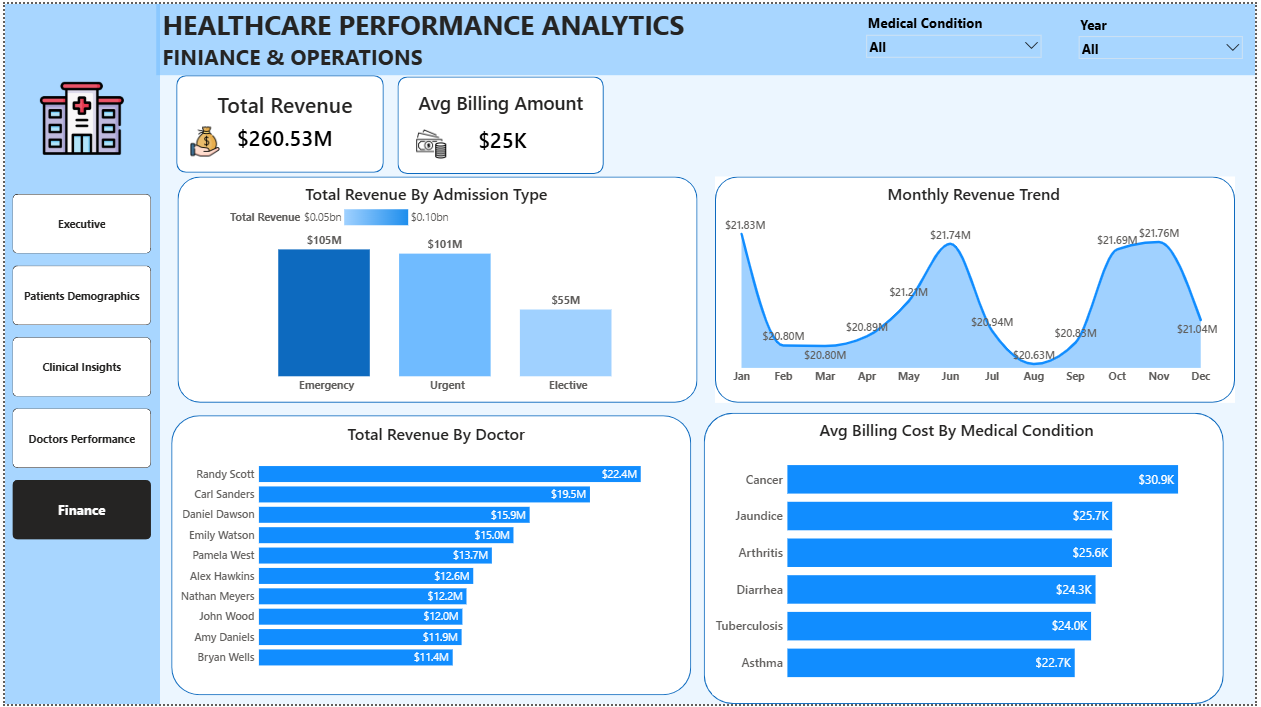

What the dashboard file says about the page in this screenshot:
{"tool":"powerbi","page":{"name":"Finiance","canvas":[2500,1400],"ordinal":4},"visuals":[{"type":"shape","box":[0,0,310,1400],"z":0},{"type":"shape","box":[302.5,0,2197.5,142.5],"z":1000},{"type":"textbox","box":[310,0,2190,142.5],"z":2000},{"type":"slicer","fields":{"Values":["Healthcare Dataset.Medical Condition"]},"box":[1713.6,15,370,102.5],"z":3000},{"type":"shape","box":[342.5,142.5,522.5,195],"z":4000},{"type":"slicer","fields":{"Values":["Date_Table.Year"]},"box":[2138.6,17.5,347.5,100],"z":5000},{"type":"image","box":[65,145,177.5,167.5],"z":6000},{"type":"textbox","box":[420,167.5,370,72.5],"z":7000},{"type":"image","box":[345.4,247.5,100,60],"z":8000},{"type":"shape","box":[344.6,345.9,1040,452.5],"z":9000},{"type":"textbox","box":[574.8,351.6,535,52.5],"z":10000},{"type":"shape","box":[1420.2,345,1040,452.5],"z":11000},{"type":"shape","box":[332.5,822.5,1040,560],"z":12000},{"type":"shape","box":[1397.5,817.5,1040,582.5],"z":13000},{"type":"textbox","box":[528.8,832.5,665,55],"z":14000},{"type":"textbox","box":[1624.7,352.5,625,52.5],"z":15000},{"type":"textbox","box":[1581.2,825,632.5,52.5],"z":16000},{"type":"pageNavigator","box":[15,380,277.5,695],"z":17000},{"type":"cardVisual","fields":{"Data":["_Measures.TopDoctorWithRevenue"]},"box":[432.5,225,400,90],"z":22000},{"type":"clusteredColumnChart","fields":{"Y":["_Measures.Total Revenue"],"Category":["Healthcare Dataset.Admission Type"]},"box":[445,402.5,880,385],"z":22001},{"type":"areaChart","fields":{"Category":["Date_Table.Month Name"],"Y":["_Measures.Total Revenue"]},"box":[1435,410,995,360],"z":22002},{"type":"clusteredBarChart","fields":{"Category":["Healthcare Dataset.Doctor"],"Y":["_Measures.Total Revenue"]},"box":[345,895,1017.5,450],"z":22003},{"type":"clusteredBarChart","fields":{"Category":["Healthcare Dataset.Medical Condition"],"Y":["_Measures.Avg Billing Cost"]},"box":[1412.5,880,1000,502.5],"z":22004}]}

Visuals, with their boxes in screenshot pixels (x1, y1, x2, y2), scaled from the page's 2500x1400 canvas onto the 1261x707 screenshot:
shape: pyautogui.locateOnScreen(0, 0, 156, 706)
shape: pyautogui.locateOnScreen(153, 0, 1260, 72)
textbox: pyautogui.locateOnScreen(156, 0, 1260, 72)
slicer - Healthcare Dataset.Medical Condition: pyautogui.locateOnScreen(864, 8, 1051, 59)
shape: pyautogui.locateOnScreen(173, 72, 436, 170)
slicer - Date_Table.Year: pyautogui.locateOnScreen(1079, 9, 1254, 59)
image: pyautogui.locateOnScreen(33, 73, 122, 158)
textbox: pyautogui.locateOnScreen(212, 85, 398, 121)
image: pyautogui.locateOnScreen(174, 125, 225, 155)
shape: pyautogui.locateOnScreen(174, 175, 698, 403)
textbox: pyautogui.locateOnScreen(290, 178, 560, 204)
shape: pyautogui.locateOnScreen(716, 174, 1241, 403)
shape: pyautogui.locateOnScreen(168, 415, 692, 698)
shape: pyautogui.locateOnScreen(705, 413, 1229, 706)
textbox: pyautogui.locateOnScreen(267, 420, 602, 448)
textbox: pyautogui.locateOnScreen(819, 178, 1135, 205)
textbox: pyautogui.locateOnScreen(798, 417, 1117, 443)
pageNavigator: pyautogui.locateOnScreen(8, 192, 148, 543)
cardVisual - _Measures.TopDoctorWithRevenue: pyautogui.locateOnScreen(218, 114, 420, 159)
clusteredColumnChart - _Measures.Total Revenue x Healthcare Dataset.Admission Type: pyautogui.locateOnScreen(224, 203, 668, 398)
areaChart - Date_Table.Month Name x _Measures.Total Revenue: pyautogui.locateOnScreen(724, 207, 1226, 389)
clusteredBarChart - Healthcare Dataset.Doctor x _Measures.Total Revenue: pyautogui.locateOnScreen(174, 452, 687, 679)
clusteredBarChart - Healthcare Dataset.Medical Condition x _Measures.Avg Billing Cost: pyautogui.locateOnScreen(712, 444, 1217, 698)
